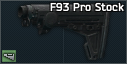ERGO F93 Pro stock: (0, 0, 127, 64)
